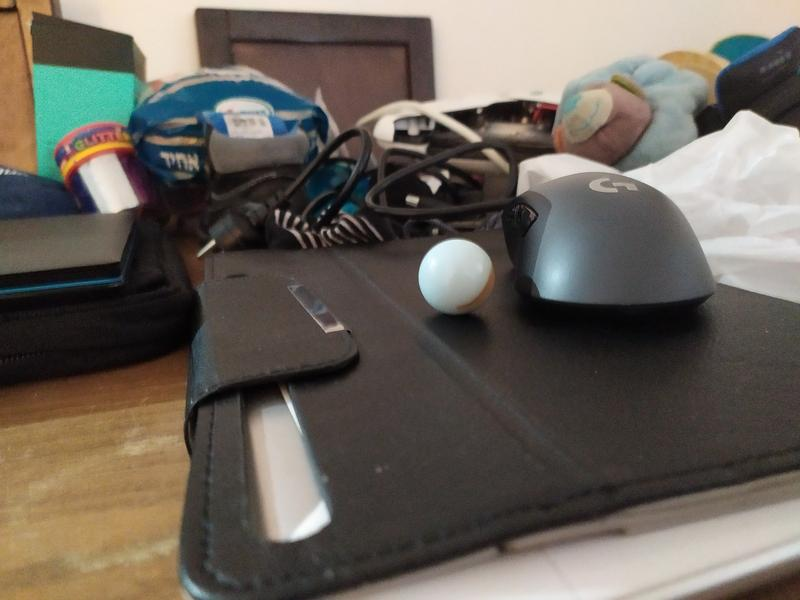Warning: (415, 236, 499, 318)
